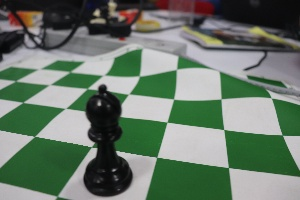black_bishop: (65, 77, 137, 199)
